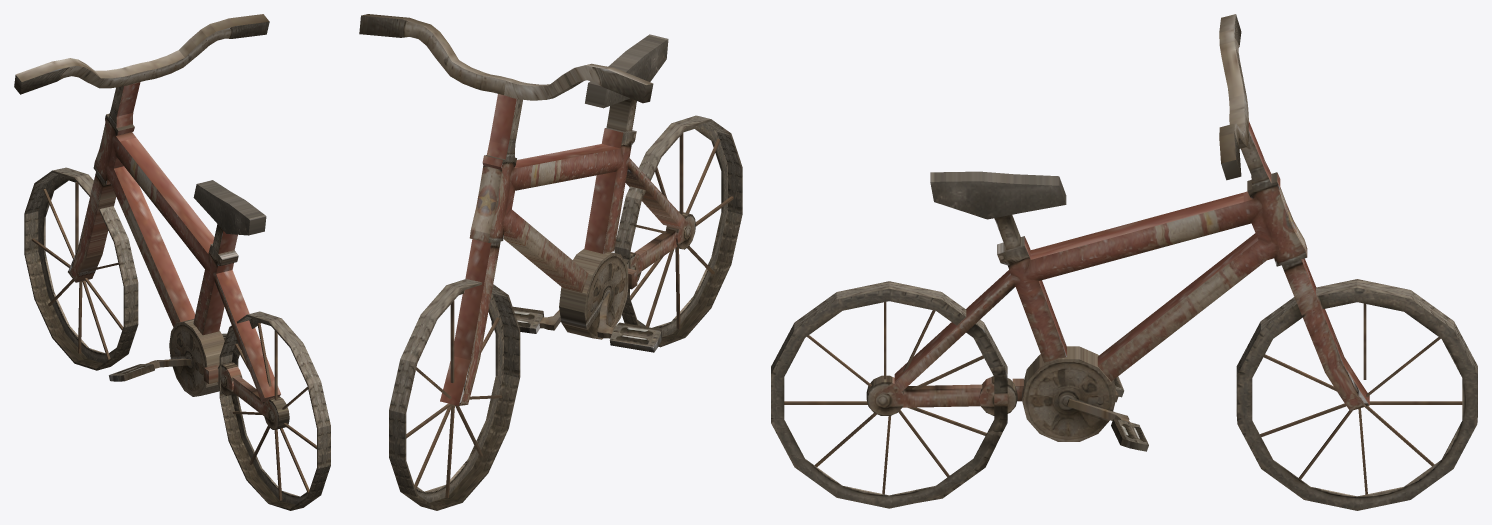
The model's file is KidBicycle.fbx.
3 views of the same model, side by side, from view 1: azimuth 30°, elevation 25°; view 2: azimuth 150°, elevation 25°; view 3: azimuth 270°, elevation 25° (orthographic). The views are drawn at different scales.
Visible parts, largest first — view 1: Plane, Cylinder, Plane.002, Cube.009, Cylinder.001, Plane.001, Cylinder.002, Cube, Plane.003; view 2: Plane, Cylinder, Plane.002, Cube.009, Cylinder.001, Plane.003, Plane.001, Cube, Cylinder.002; view 3: Plane, Cylinder, Cylinder.001, Cube.009, Plane.001, Plane.002, Cylinder.002, Cube, Plane.003.
Part boxes in pixels (bbox=[...]): Plane: bbox=[68, 82, 280, 402]; Cylinder: bbox=[24, 167, 330, 510]; Plane.002: bbox=[14, 14, 269, 94]; Cube.009: bbox=[31, 182, 316, 500]; Cylinder.001: bbox=[169, 319, 224, 396]; Plane.001: bbox=[193, 180, 266, 235]; Cylinder.002: bbox=[217, 362, 289, 429]; Cube: bbox=[204, 365, 264, 415]; Plane.003: bbox=[108, 333, 226, 381]; Plane: bbox=[440, 94, 685, 405]; Cylinder: bbox=[389, 115, 742, 510]; Plane.002: bbox=[359, 14, 653, 103]; Cube.009: bbox=[406, 133, 733, 498]; Cylinder.001: bbox=[559, 249, 628, 339]; Plane.003: bbox=[491, 292, 661, 352]; Plane.001: bbox=[585, 34, 668, 108]; Cube: bbox=[627, 228, 677, 289]; Cylinder.002: bbox=[624, 211, 695, 281]; Plane: bbox=[894, 121, 1369, 411]; Cylinder: bbox=[771, 279, 1477, 510]; Cylinder.001: bbox=[1022, 346, 1115, 441]; Cube.009: bbox=[784, 302, 1462, 494]; Plane.001: bbox=[930, 171, 1066, 219]; Plane.002: bbox=[1219, 14, 1248, 180]; Cylinder.002: bbox=[866, 375, 1017, 415]; Cube: bbox=[902, 378, 1023, 407]; Plane.003: bbox=[1067, 376, 1148, 451].
Bounding box in the file's own units: 144 × 199 × 295.
9 materials, 9 textured.
